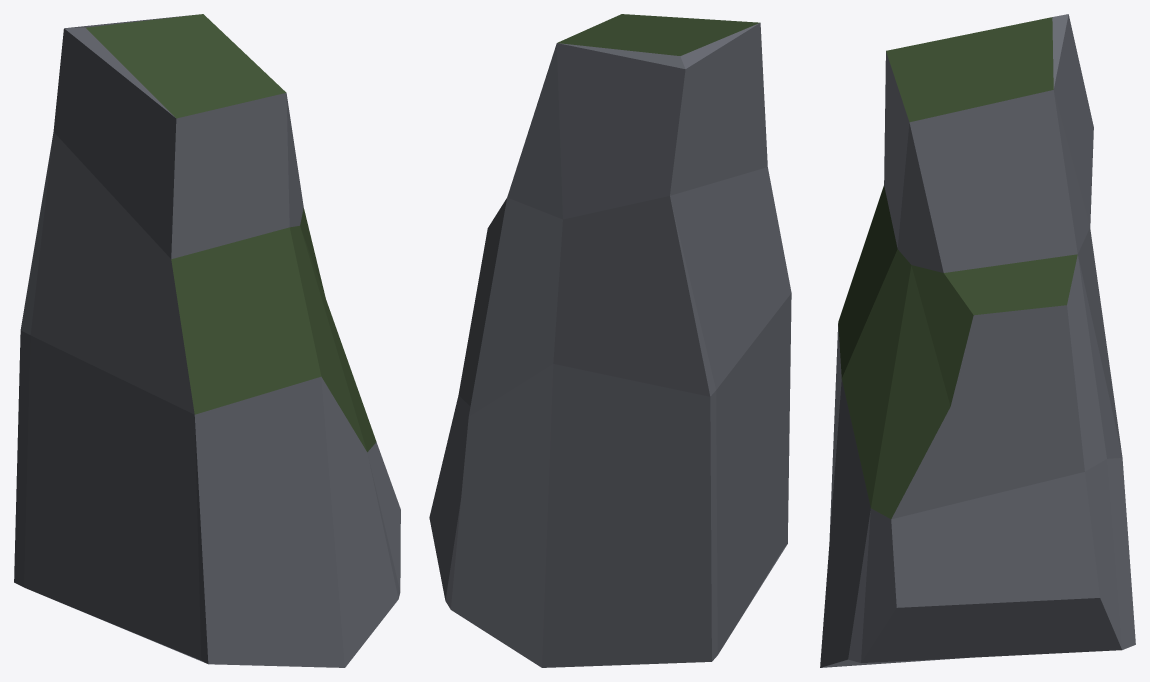
Rendered from Rock_Moss_1.glb.
3 views of the same model, side by side, from view 1: azimuth 30°, elevation 25°; view 2: azimuth 150°, elevation 25°; view 3: azimuth 270°, elevation 25° (orthographic). The views are drawn at different scales.
Visible parts, largest first — view 1: Rock_Moss_1; view 2: Rock_Moss_1; view 3: Rock_Moss_1.
Part boxes in pixels (bbox=[...]): Rock_Moss_1: bbox=[14, 14, 400, 667]; Rock_Moss_1: bbox=[429, 14, 791, 667]; Rock_Moss_1: bbox=[820, 14, 1135, 667].
Size of the model in its own units: 0.4853 by 0.95 by 0.4667.
